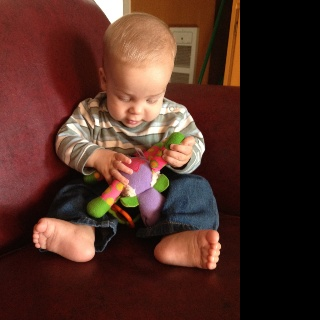without_mask: (105, 66, 165, 127)
